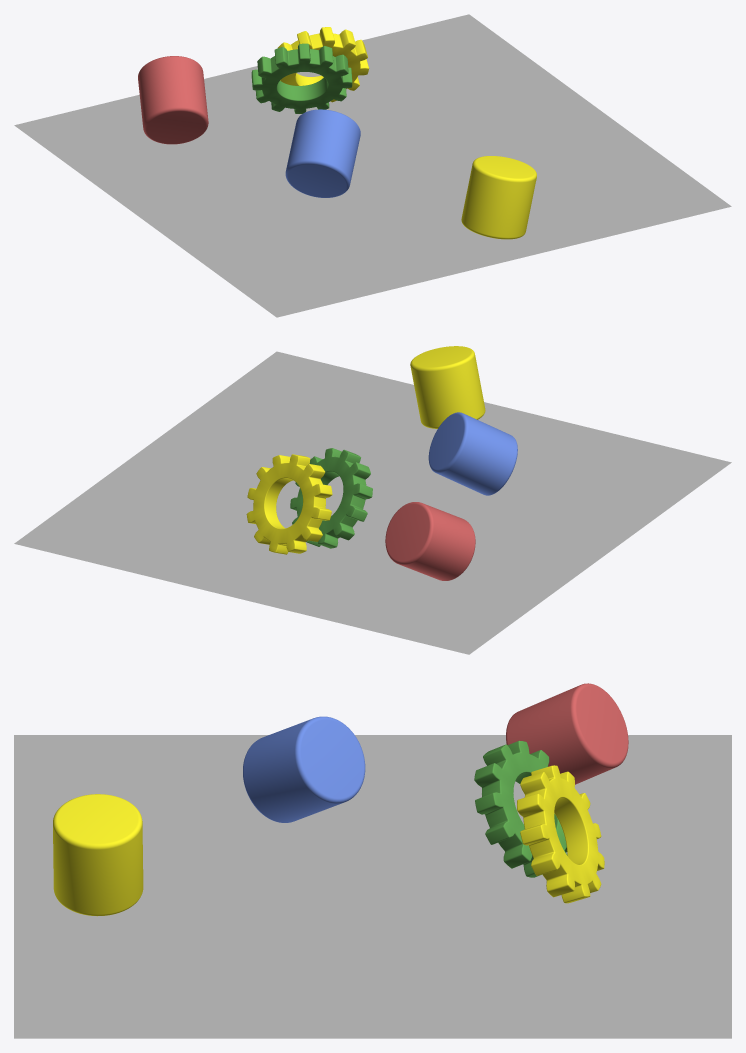
3 renders of one model, top to bottom at view 1: azimuth 30°, elevation 25°; view 2: azimuth 150°, elevation 25°; view 3: azimuth 270°, elevation 25°, orthographic. The views are drawn at different scales.
Visible parts, largest first — view 1: Cube, FileBasedObject.004, FileBasedObject.001, FileBasedObject, FileBasedObject.003, FileBasedObject.002; view 2: Cube, FileBasedObject.002, FileBasedObject.004, FileBasedObject.001, FileBasedObject, FileBasedObject.003; view 3: Cube, FileBasedObject, FileBasedObject.001, FileBasedObject.002, FileBasedObject.004, FileBasedObject.003.
Part boxes in pixels (x1,y1,x2,y2): Cube: [14, 14, 731, 317]; FileBasedObject.004: [138, 56, 208, 144]; FileBasedObject.001: [285, 109, 360, 197]; FileBasedObject: [461, 156, 536, 239]; FileBasedObject.003: [251, 43, 352, 113]; FileBasedObject.002: [278, 27, 369, 102]; Cube: [14, 351, 731, 654]; FileBasedObject.002: [246, 454, 332, 554]; FileBasedObject.004: [385, 502, 475, 580]; FileBasedObject.001: [428, 412, 517, 495]; FileBasedObject: [410, 346, 485, 428]; FileBasedObject.003: [290, 448, 372, 548]; Cube: [14, 735, 731, 1038]; FileBasedObject: [53, 794, 143, 916]; FileBasedObject.001: [243, 716, 365, 822]; FileBasedObject.002: [517, 765, 604, 903]; FileBasedObject.004: [506, 683, 628, 784]; FileBasedObject.003: [474, 740, 567, 877].
Bounding box in the file's own units: 8 × 1.55 × 8.
